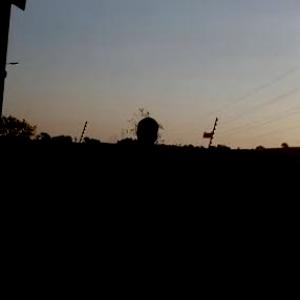follow: (98, 112, 172, 299)
